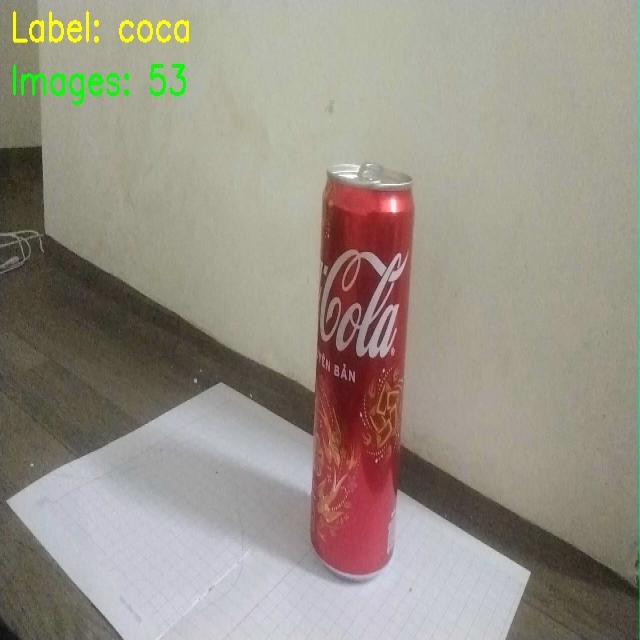Coca: (305, 142, 428, 586)
